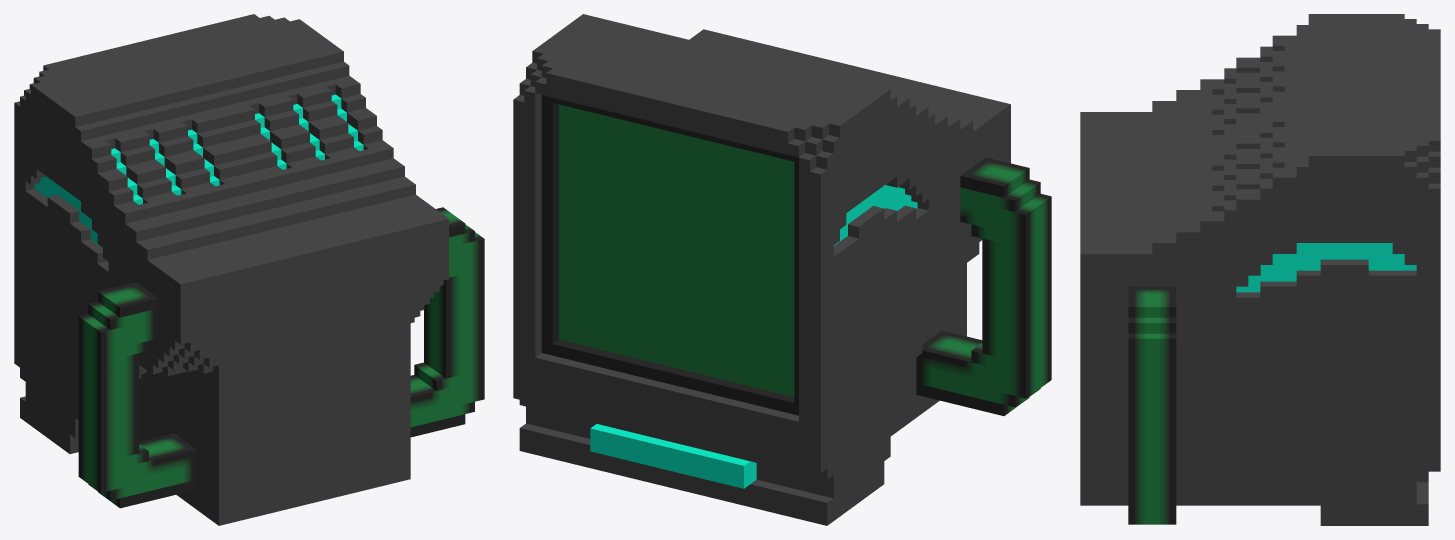
Rendered from Enviroment-0-Screen.fbx.
3 renders of one model, left to right at view 1: azimuth 30°, elevation 25°; view 2: azimuth 150°, elevation 25°; view 3: azimuth 270°, elevation 25°, orthographic. The views are drawn at different scales.
Visible parts, largest first — view 1: Screen; view 2: Screen; view 3: Screen.
Boxes of the visible parts, <box> form: Screen: <box>14,14,484,525</box>; Screen: <box>513,14,1051,525</box>; Screen: <box>1080,14,1440,525</box>.
Bounding box in the file's own units: 40 × 34 × 30.
